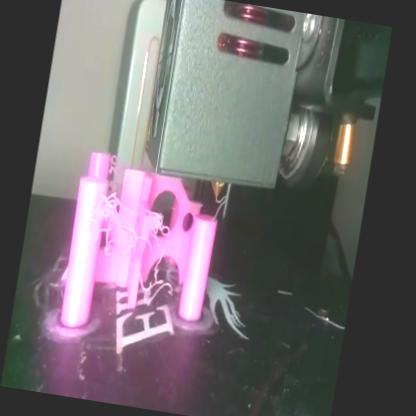fail: (86, 193, 141, 265), (140, 210, 174, 264)
